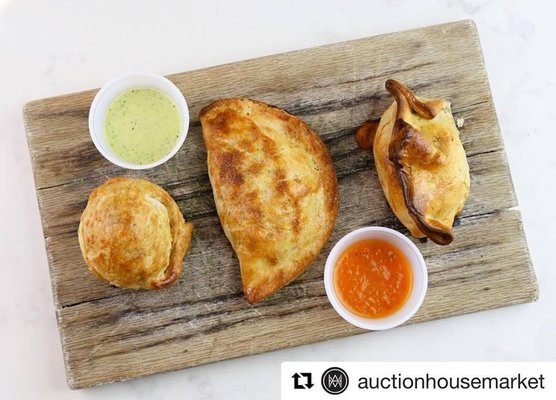sushi: (324, 224, 429, 331), (89, 73, 190, 171)
